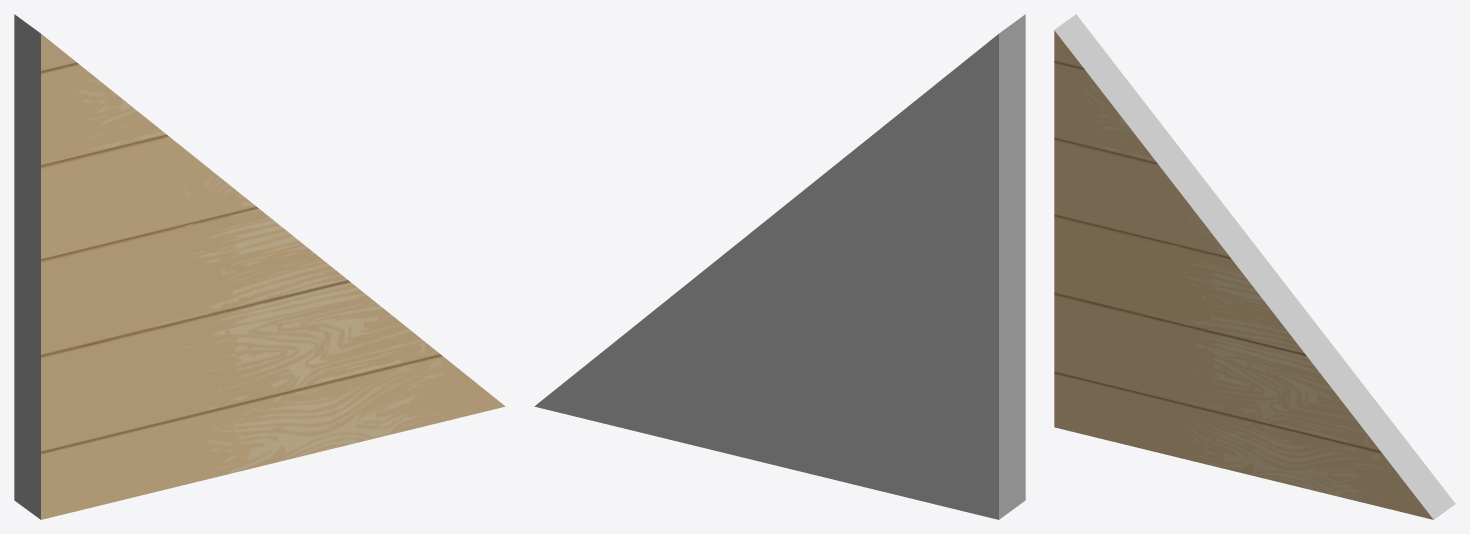
The model's file is Wall Standard Triangle 45deg.fbx.
The picture shows the model from 3 angles, left to right: view 1: azimuth 30°, elevation 25°; view 2: azimuth 150°, elevation 25°; view 3: azimuth 330°, elevation 25°; orthographic projection. The views are drawn at different scales.
Parts seen in each view (by area): view 1: Wall Standard (Triangle) 45deg; view 2: Wall Standard (Triangle) 45deg; view 3: Wall Standard (Triangle) 45deg.
Boxes of the visible parts, <box> form: Wall Standard (Triangle) 45deg: <box>14,14,505,519</box>; Wall Standard (Triangle) 45deg: <box>534,14,1025,519</box>; Wall Standard (Triangle) 45deg: <box>1054,14,1455,519</box>.
Size of the model in its own units: 200 by 200 by 20.
